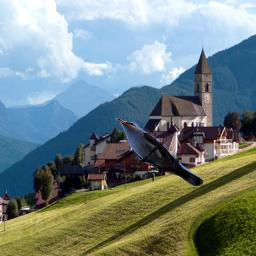Cuckoo: (115, 117, 203, 186)
